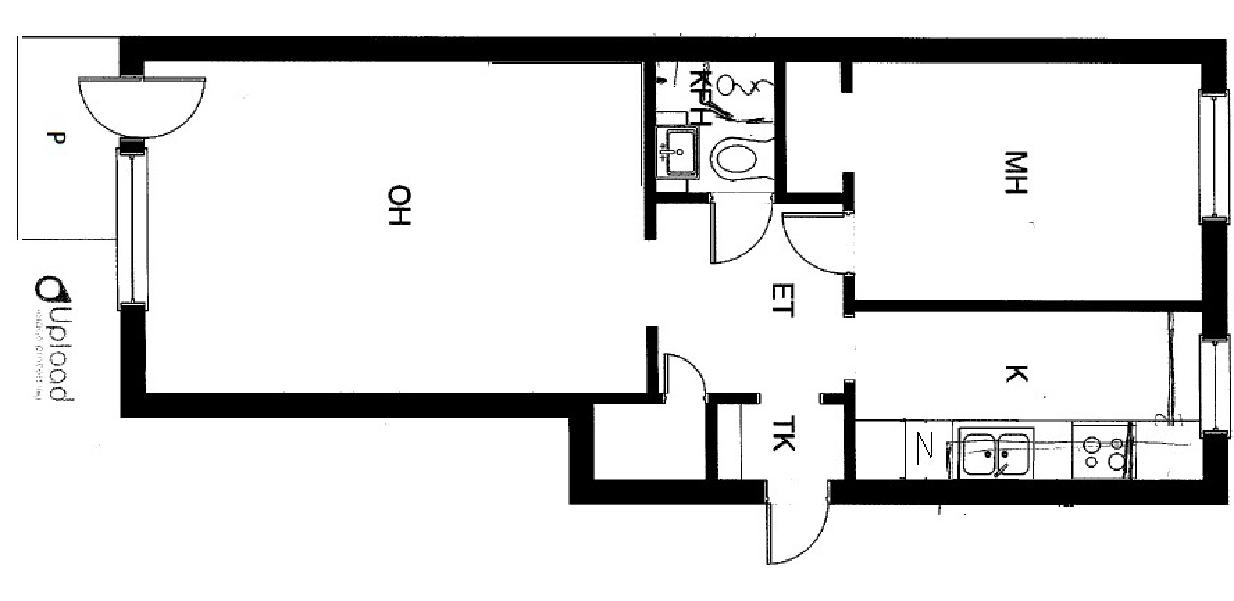door: (77, 73, 211, 139), (764, 476, 830, 571), (708, 187, 772, 272), (779, 209, 856, 279), (659, 349, 709, 395)
window: (116, 148, 149, 308), (1198, 91, 1223, 221), (1199, 337, 1231, 433)
zone: (145, 59, 1199, 479), (785, 55, 1205, 303), (18, 36, 117, 240), (652, 57, 773, 192)
